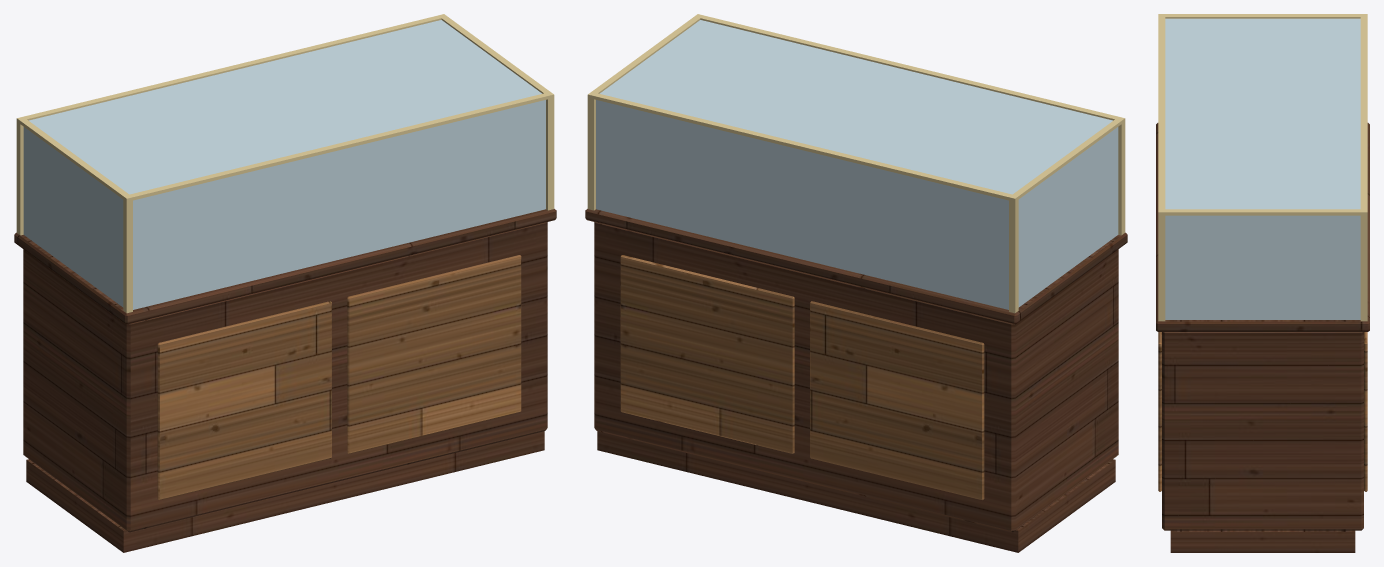
File: display_case.glb
3 views of the same model, side by side, from view 1: azimuth 30°, elevation 25°; view 2: azimuth 150°, elevation 25°; view 3: azimuth 270°, elevation 25° (orthographic). The views are drawn at different scales.
Parts seen in each view (by area): view 1: display_case_glass, display_case_dkwood, display_case_oak, display_case_brass; view 2: display_case_glass, display_case_dkwood, display_case_oak, display_case_brass; view 3: display_case_glass, display_case_dkwood, display_case_brass, display_case_oak.
Part boxes in pixels (x1,y1,x2,y2): display_case_glass: [23, 20, 545, 309]; display_case_dkwood: [14, 209, 556, 552]; display_case_oak: [157, 255, 521, 500]; display_case_brass: [16, 14, 554, 313]; display_case_glass: [596, 20, 1118, 309]; display_case_dkwood: [585, 209, 1127, 552]; display_case_oak: [620, 255, 984, 500]; display_case_brass: [587, 14, 1125, 313]; display_case_glass: [1165, 18, 1360, 319]; display_case_dkwood: [1156, 123, 1369, 552]; display_case_brass: [1158, 14, 1367, 321]; display_case_oak: [1158, 332, 1367, 491].
Bounding box in the file's own units: 1.64 × 1.31 × 0.74.
7 materials, 2 textured.
